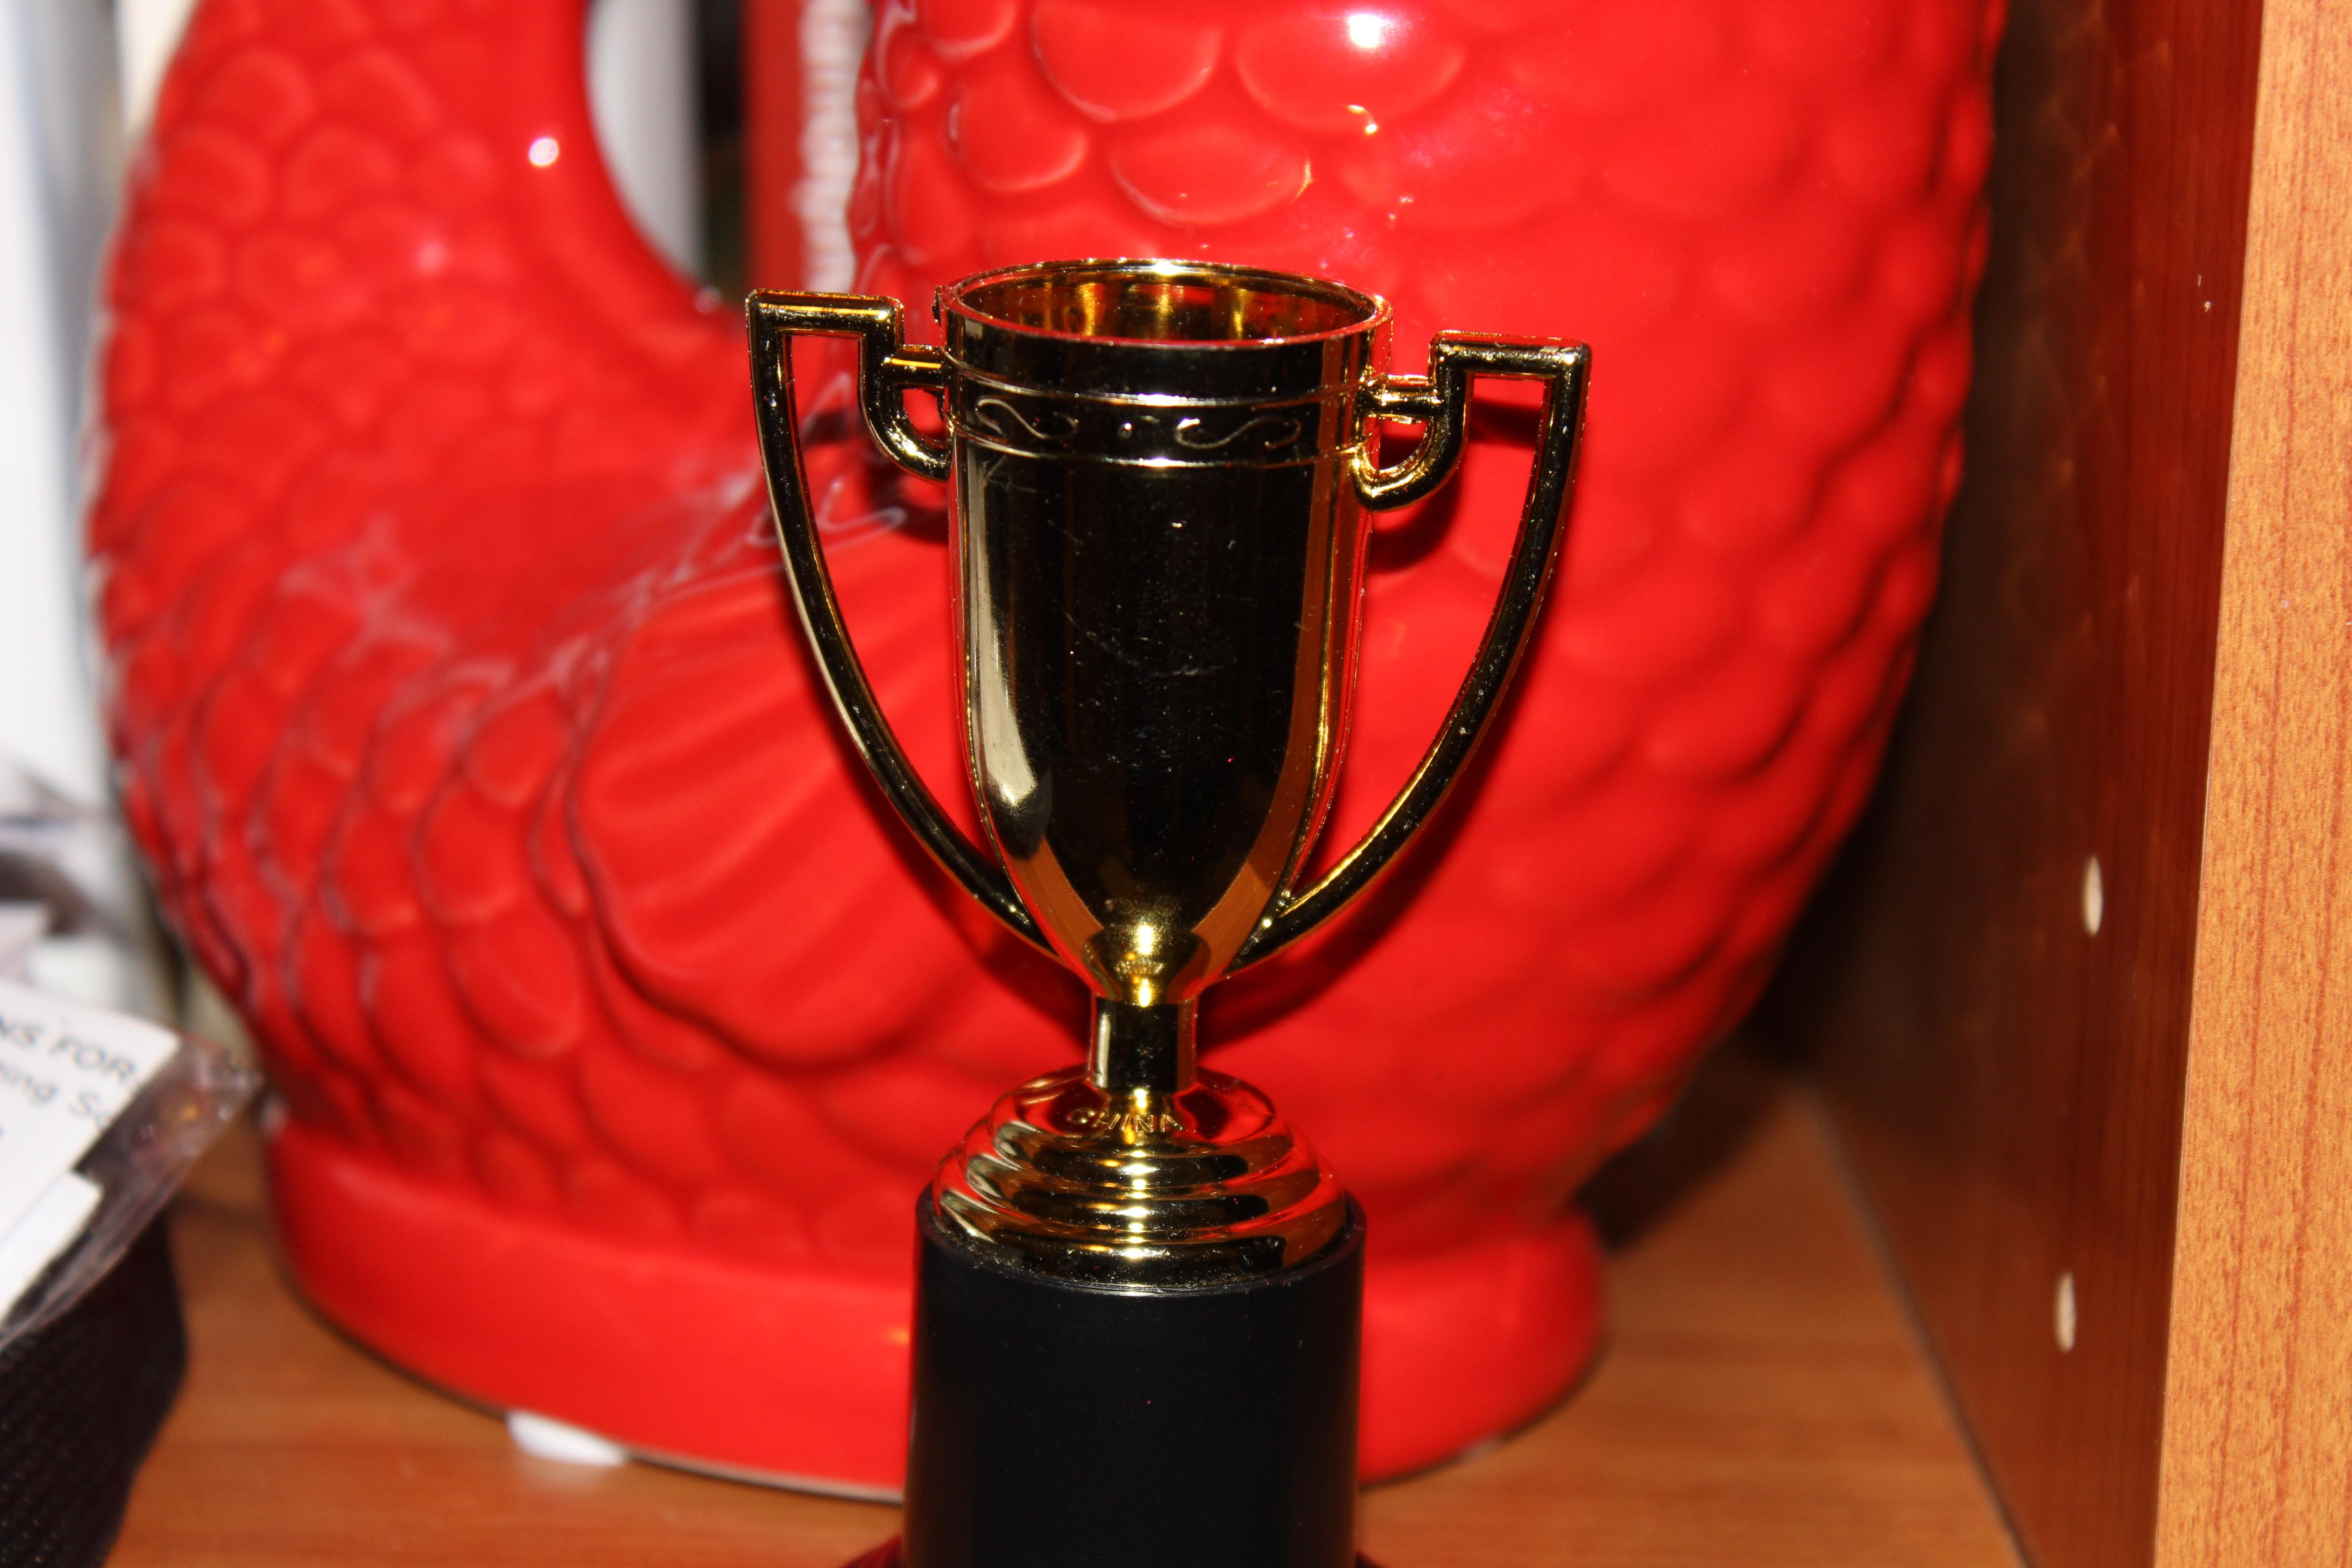trophy: (672, 217, 1647, 1568)
